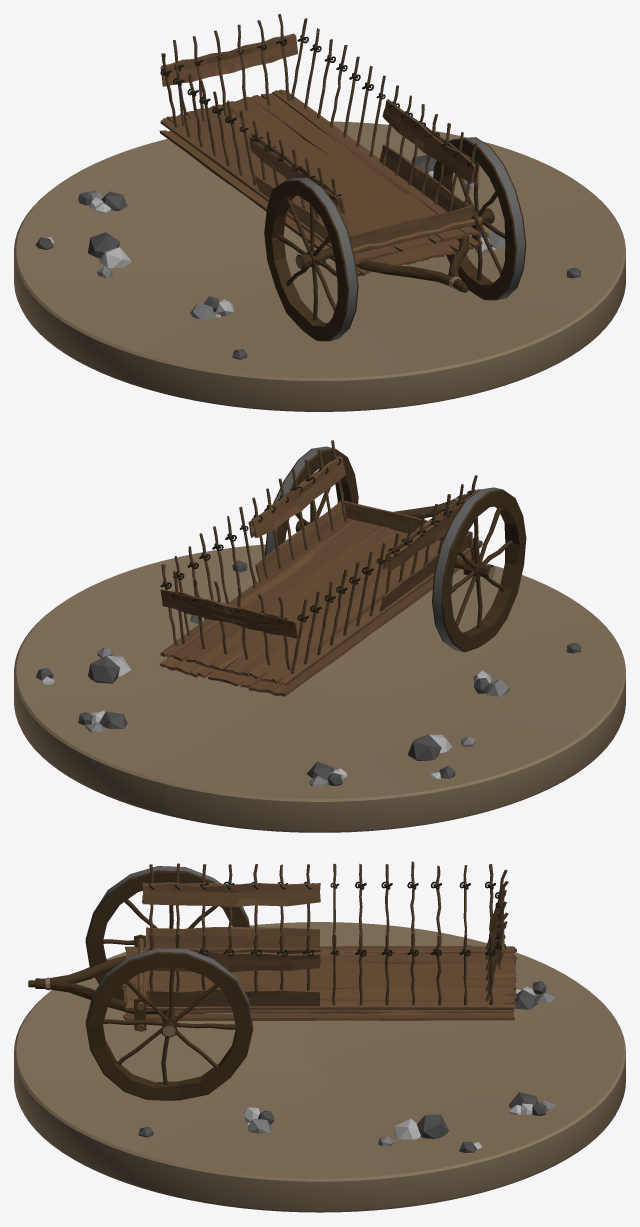
The model's file is Medieval cart.fbx.
The picture shows the model from 3 angles, top to bottom: view 1: azimuth 30°, elevation 25°; view 2: azimuth 150°, elevation 25°; view 3: azimuth 270°, elevation 25°; orthographic projection.
Visible parts, largest first — view 1: Top Layer _Support Bottom Later; view 2: Top Layer _Support Bottom Later; view 3: Top Layer _Support Bottom Later.
Part boxes in pixels (x1,y1,x2,y2): Top Layer _Support Bottom Later: (14,14,625,411); Top Layer _Support Bottom Later: (14,440,625,832); Top Layer _Support Bottom Later: (14,861,625,1212).
Bounding box in the file's own units: 3.66 × 1.25 × 3.66.
